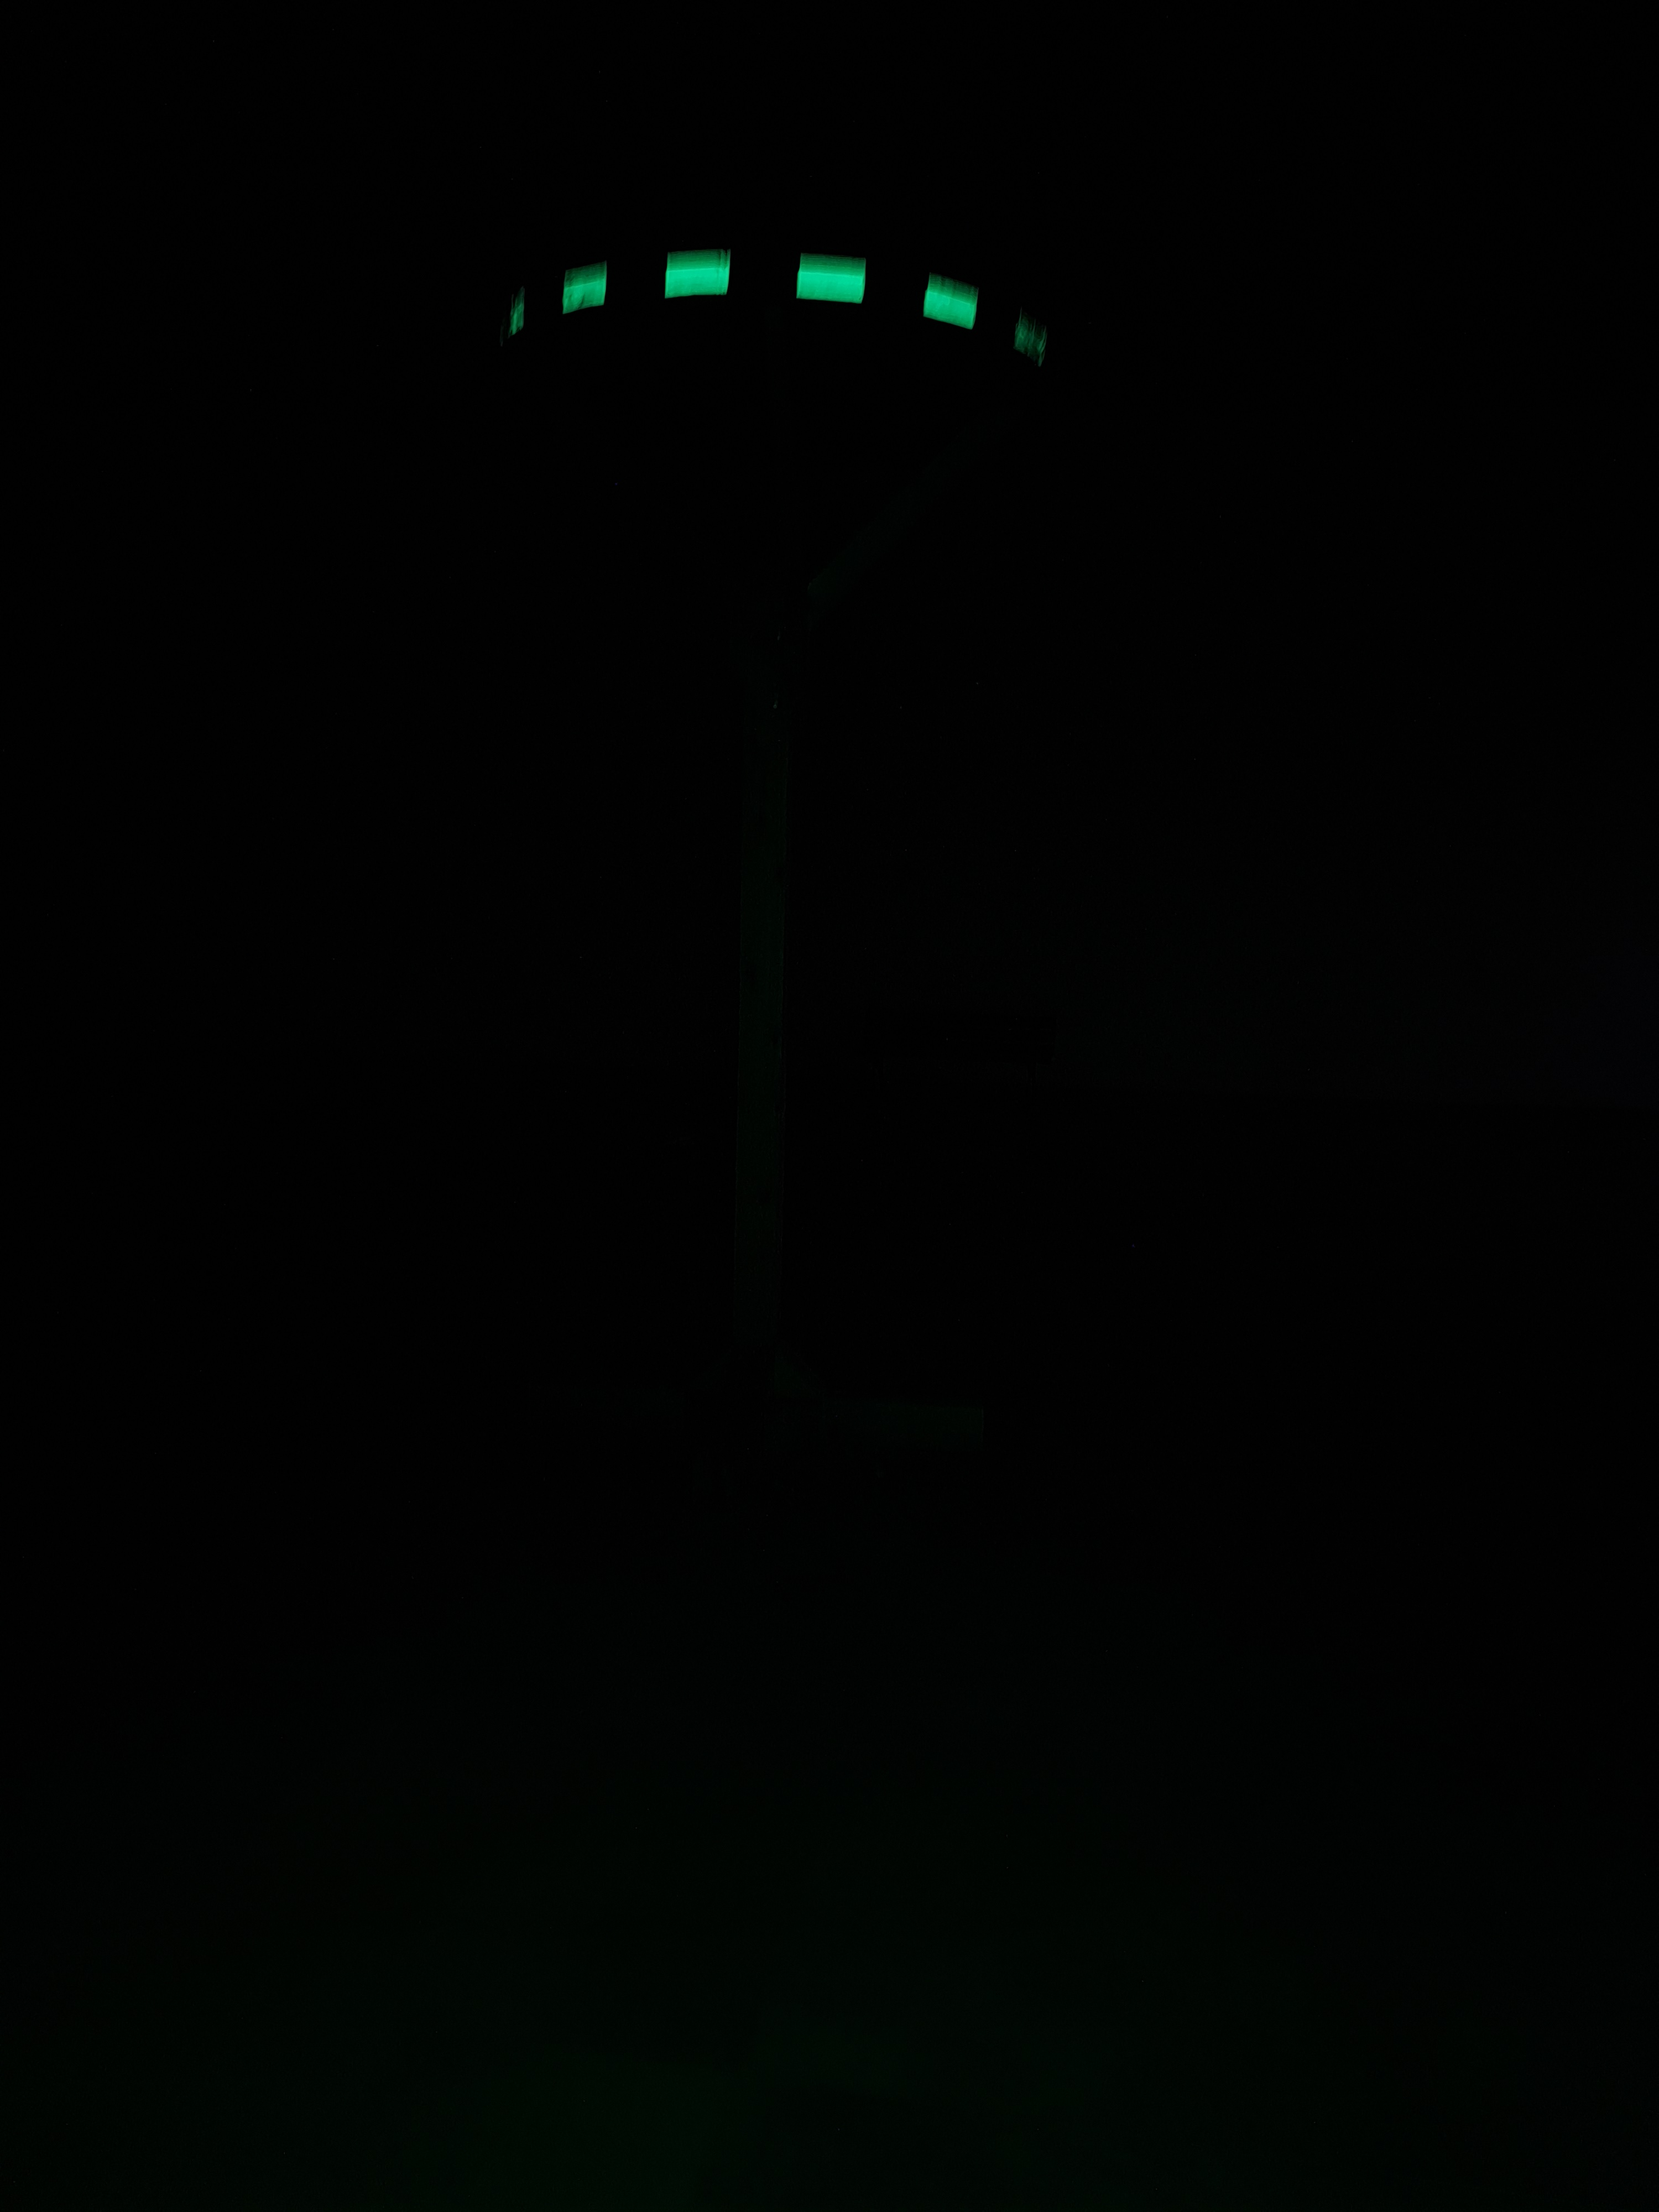hoop: (490, 247, 1056, 376)
